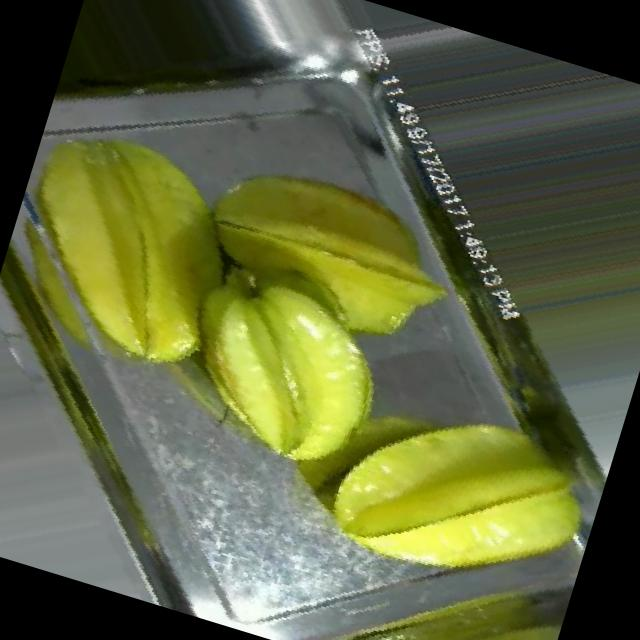fruit: (145, 87, 520, 400), (0, 64, 313, 429), (265, 329, 625, 640), (124, 210, 454, 528), (415, 158, 640, 459)
